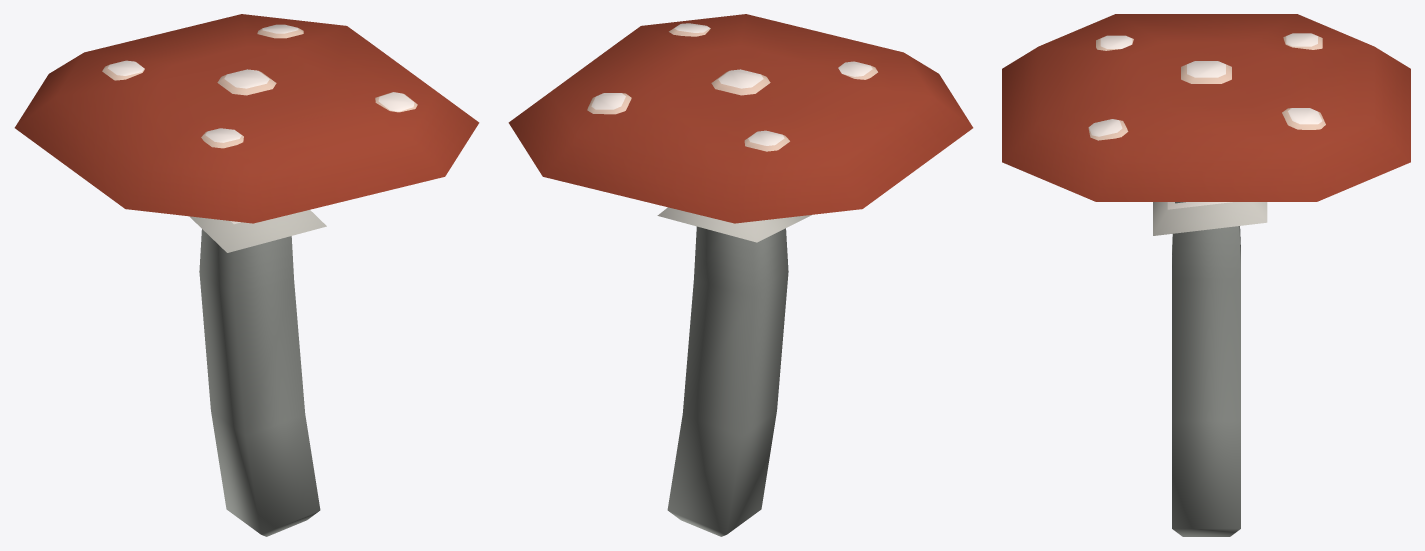
File: amanita-mushroom.fbx
3 views of the same model, side by side, from view 1: azimuth 30°, elevation 25°; view 2: azimuth 150°, elevation 25°; view 3: azimuth 270°, elevation 25° (orthographic).
Parts seen in each view (by area): view 1: amanita; view 2: amanita; view 3: amanita.
Part boxes in pixels (x1=…): amanita: x1=14, y1=14, x2=479, y2=536; amanita: x1=508, y1=14, x2=973, y2=536; amanita: x1=1002, y1=14, x2=1410, y2=536.
Bounding box in the file's own units: 0.6069 × 0.7387 × 0.6069.
